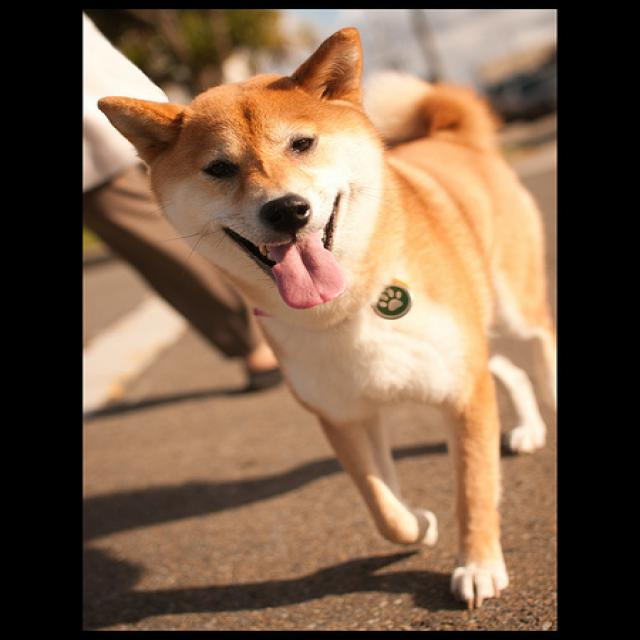dog-shiba_inu: (85, 18, 567, 613)
